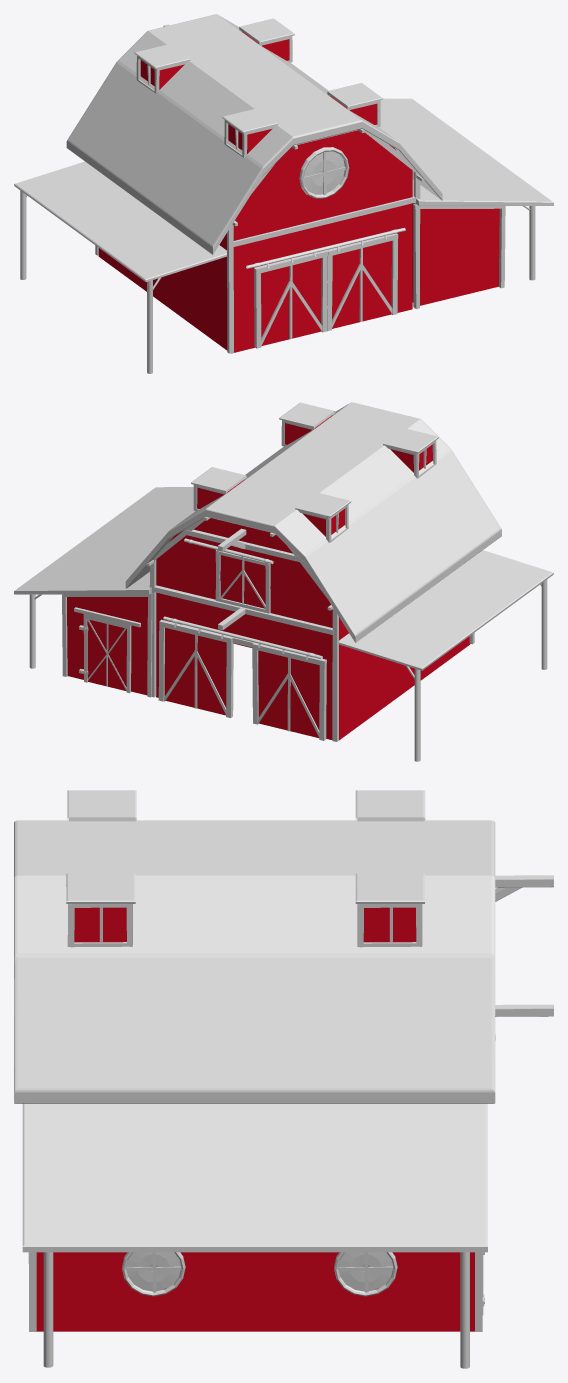
File: Barn.fbx
The picture shows the model from 3 angles, top to bottom: view 1: azimuth 30°, elevation 25°; view 2: azimuth 150°, elevation 25°; view 3: azimuth 270°, elevation 25°; orthographic projection. The views are drawn at different scales.
Visible parts, largest first — view 1: Line022, Box176; view 2: Line022, Box176; view 3: Line022, Box176.
Part boxes in pixels (x1=…): Line022: x1=14, y1=14, x2=553, y2=373; Box176: x1=98, y1=31, x2=499, y2=353; Line022: x1=14, y1=402, x2=553, y2=761; Box176: x1=67, y1=415, x2=470, y2=740; Line022: x1=14, y1=790, x2=553, y2=1368; Box176: x1=36, y1=907, x2=474, y2=1331.
Bounding box in the file's own units: 311 × 157 × 220.
